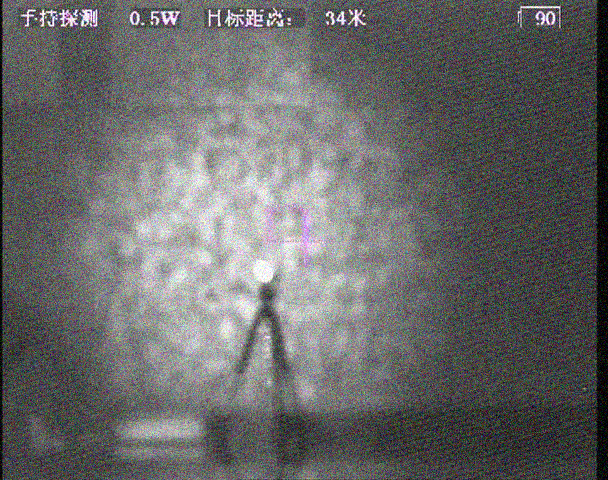my: (251, 261, 276, 284)
